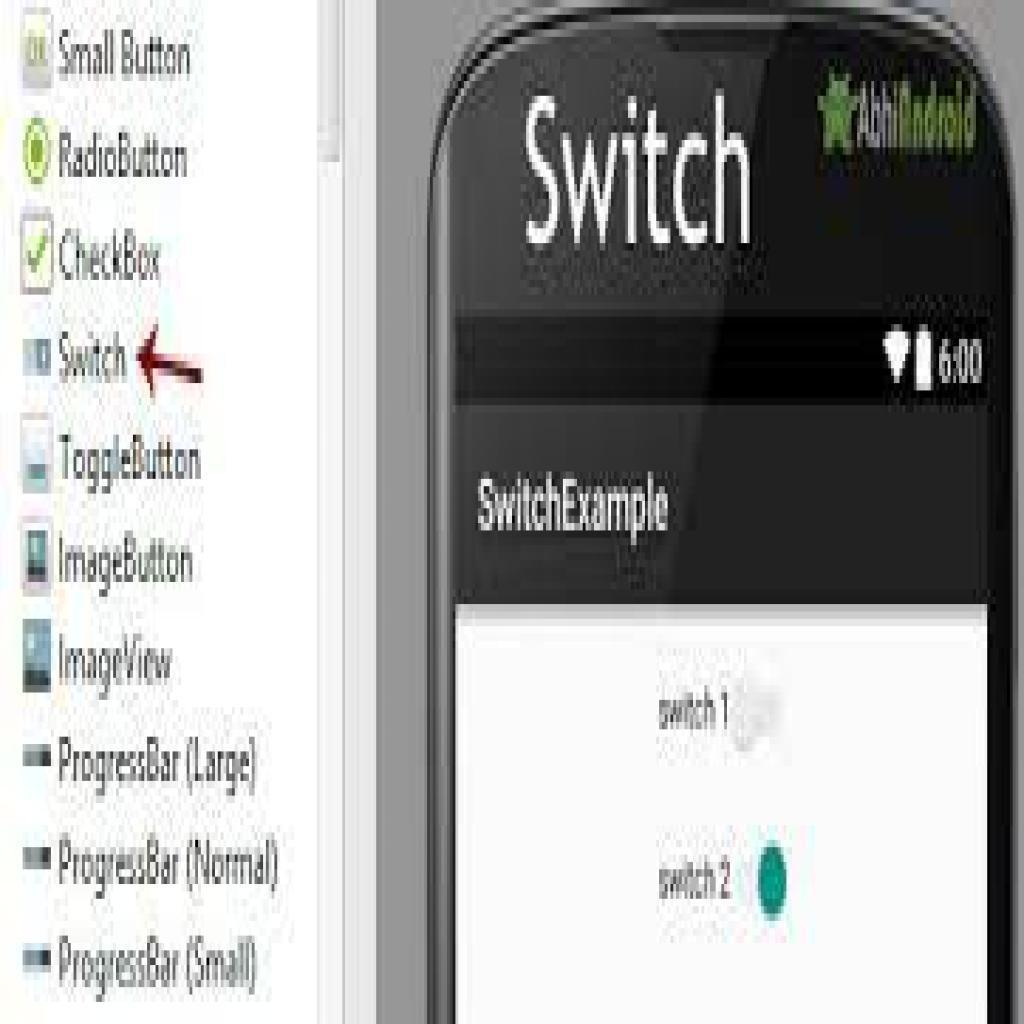checkbox: (19, 210, 58, 302)
icon: (15, 517, 58, 600), (15, 11, 56, 95), (20, 410, 59, 497), (20, 621, 54, 699), (22, 332, 60, 384), (22, 837, 63, 882), (18, 742, 54, 778), (18, 942, 53, 979)
radio: (19, 115, 55, 201)
